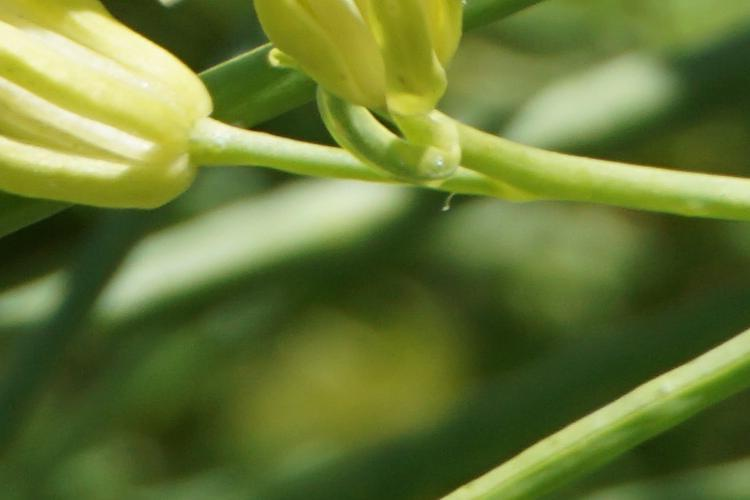yellow: (22, 16, 208, 248)
